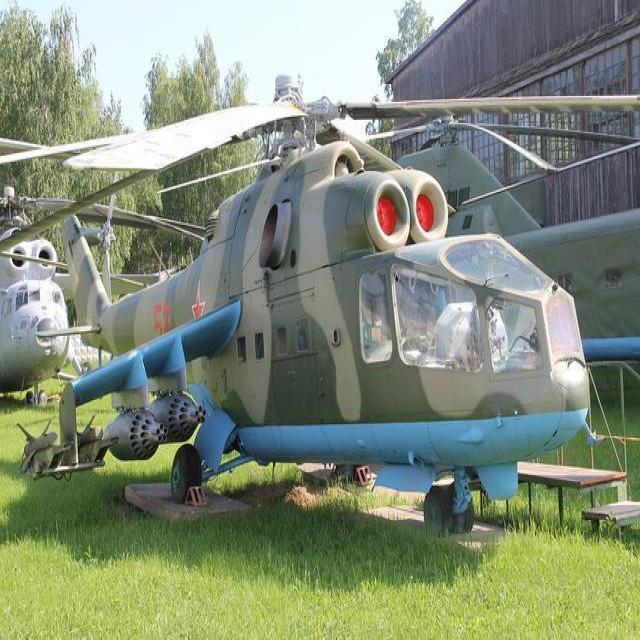MIL_HELO: (3, 66, 640, 549)
